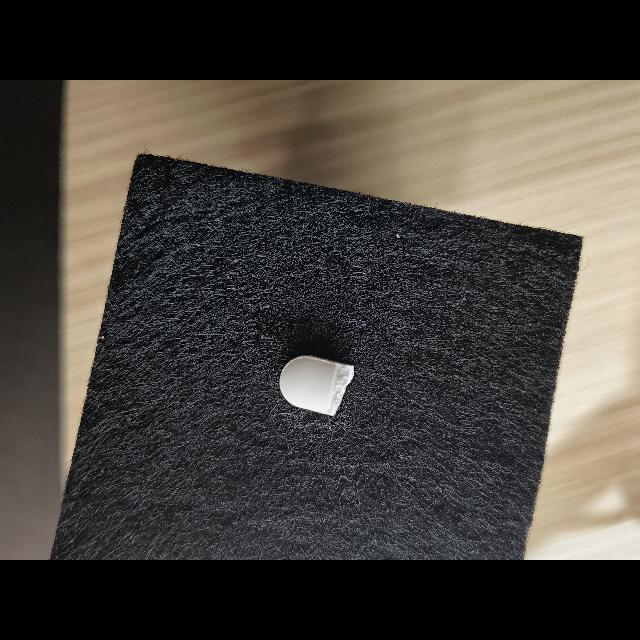Chipped Pill: (279, 355, 354, 416)
